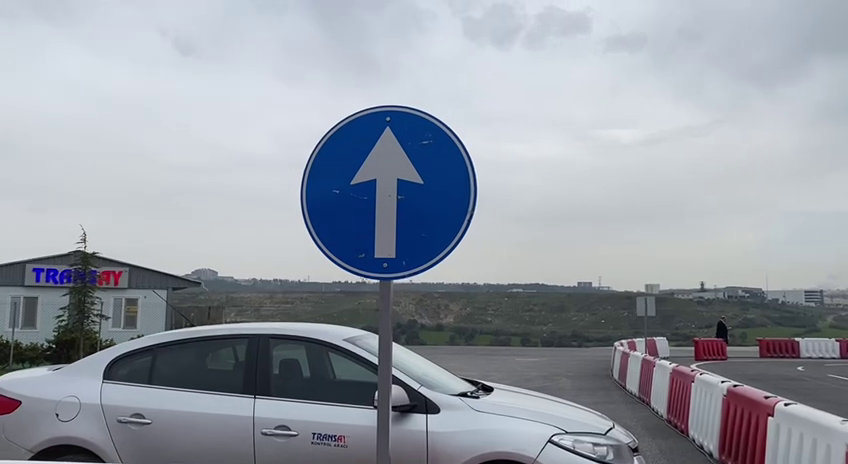forward: (296, 100, 480, 281)
